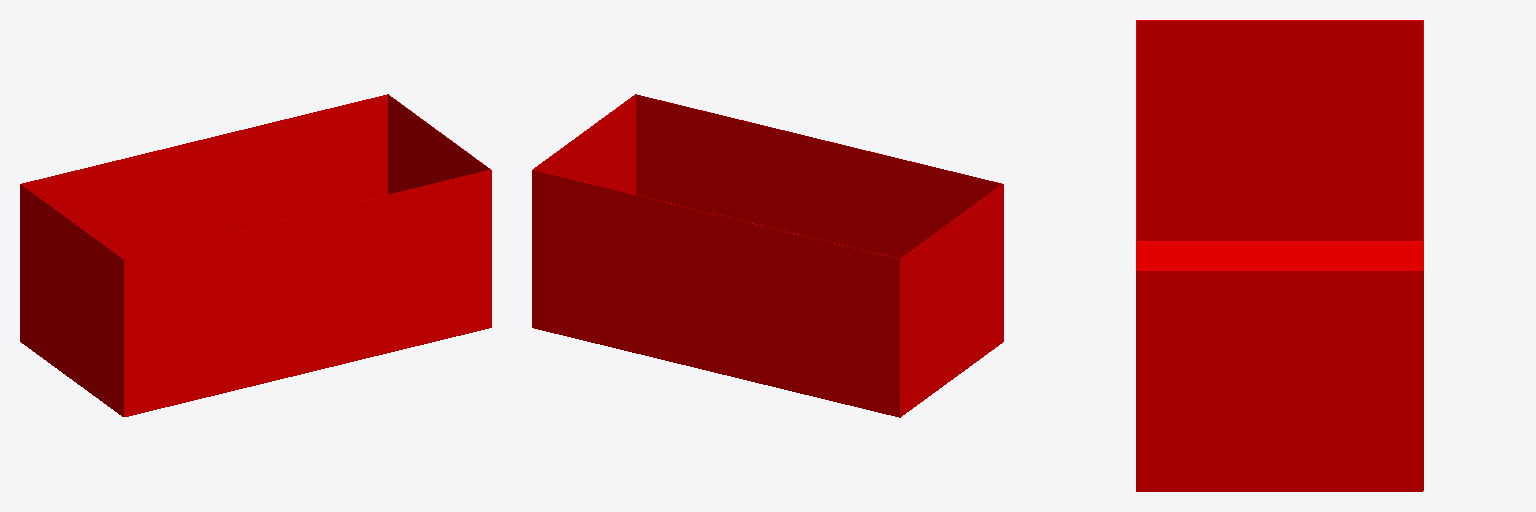
URDF robot description (square.urdf):
<?xml version="1.0" ?>
<robot name="square.urdf">
  <link name="baseLink">
    <contact>
      <lateral_friction value="1.0"/>
      <inertia_scaling value="3.0"/>
    </contact>
    <inertial>
      <origin rpy="0 0 0" xyz="0 0 0"/>
       <mass value=".1"/>
       <inertia ixx="1" ixy="0" ixz="0" iyy="1" iyz="0" izz="1"/>
    </inertial>
    <visual>
      <origin rpy="0 0 0" xyz="0 0 0"/>
      <geometry>
        <mesh filename="0.stl" scale="1 1 1" />
      </geometry>
      <material name="red">
        <color rgba="1 0 0 1"/>
      </material>
    </visual>
    <collision>
      <origin rpy="0 0 0" xyz="0 0 0"/>
      <geometry>
        <mesh filename="0_convex.obj" scale="1 1 1" />
      </geometry>
    </collision>
  </link>
</robot>

--- Render facts (derived) ---
Views: 3 orthographic renders of the robot side by side, from view 1: azimuth 30°, elevation 25°; view 2: azimuth 150°, elevation 25°; view 3: azimuth 270°, elevation 25°.
Robot: square.urdf — 1 links, 0 joints (none); root link baseLink; default pose: every joint at zero.
Visible links, largest first — view 1: baseLink; view 2: baseLink; view 3: baseLink.
Link boxes in pixels (box(x1,y1,x2,y2)): baseLink: box(20, 94, 491, 416); baseLink: box(532, 94, 1003, 417); baseLink: box(1136, 20, 1423, 491).
Bounding box of the posed robot: 0.6642 × 0.323 × 0.273 m (x, y, z).
Meshes: 1 distinct files referenced, 1 mesh visuals loaded (1 binary STL).